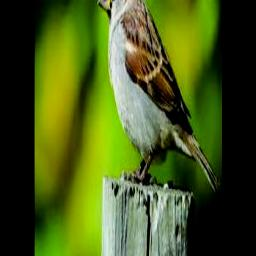Sparrow: (98, 0, 220, 193)
